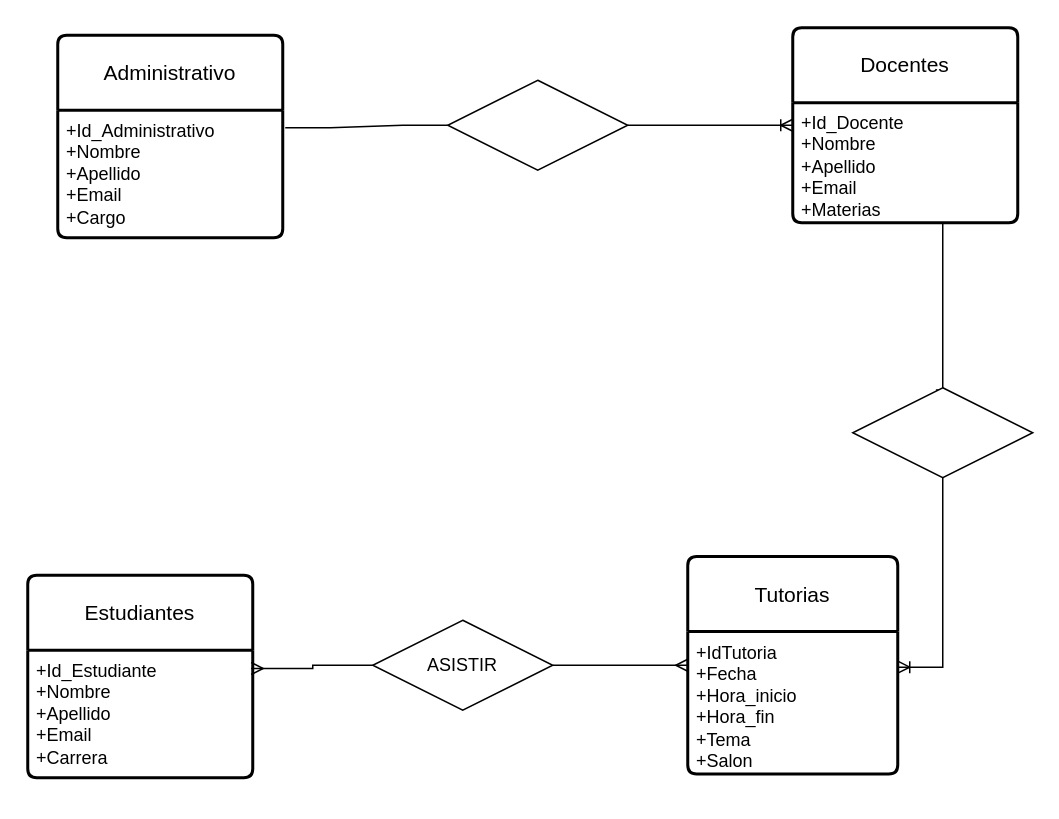
The diagram is 1059 pixels wide and 819 high, and some of its shapes have lost their labels. Each missing label, with the centre of its shape:
"CRUD" belongs at point (537, 124).
"IMPARTE" belongs at point (942, 432).
